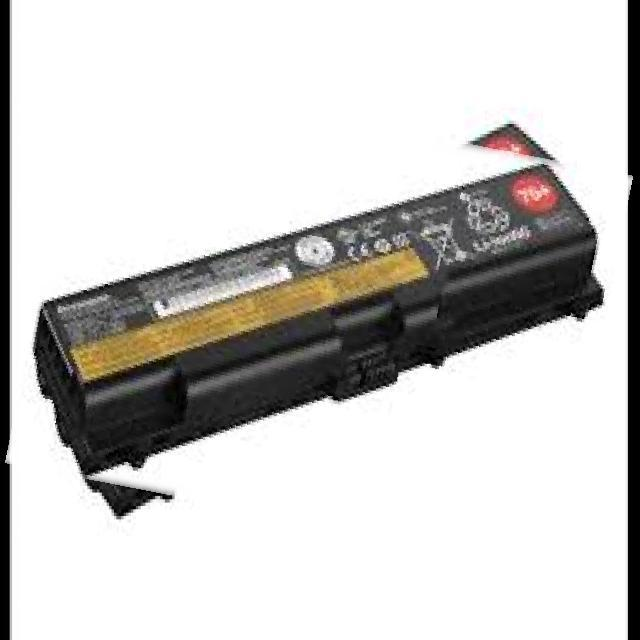Battery: (16, 155, 620, 494)
